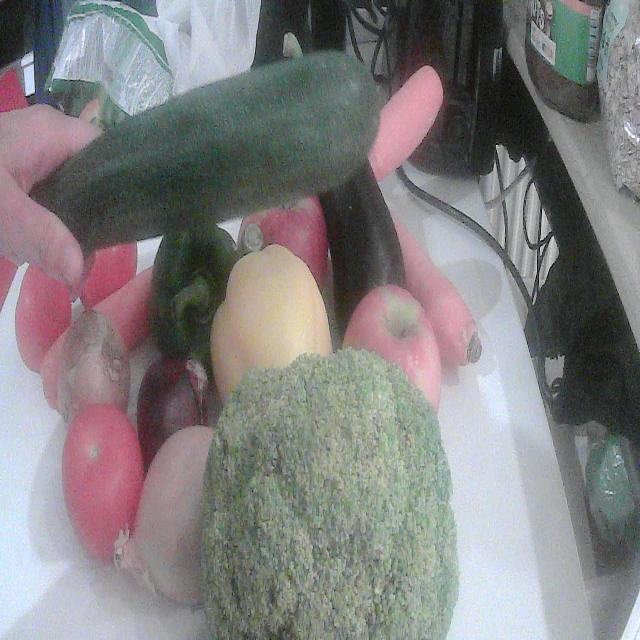Apple: (343, 284, 442, 412)
Bell Pepper: (211, 244, 332, 400), (150, 223, 237, 369)
Broccoli: (201, 350, 458, 639)
Carrot: (392, 212, 481, 373), (370, 66, 443, 180)
Courgette: (31, 52, 388, 255)
Eggplant: (318, 162, 404, 336)
Onion: (124, 427, 212, 604), (56, 310, 130, 423), (137, 357, 209, 468)
Tomato: (62, 404, 146, 558), (16, 265, 72, 372)
